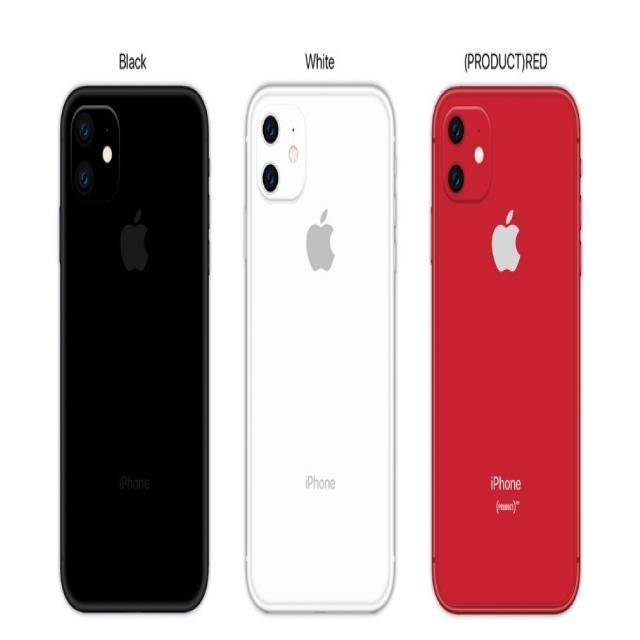phone: (56, 82, 214, 613), (242, 82, 398, 612), (428, 83, 582, 615)
